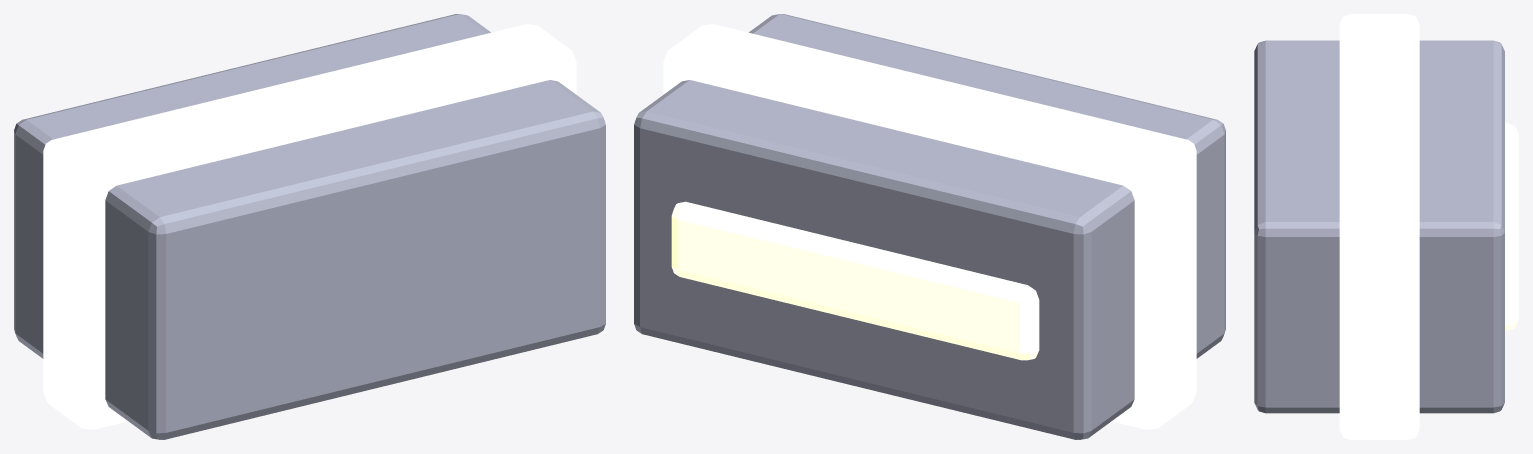
The model's file is brick_armor.glb.
3 renders of one model, left to right at view 1: azimuth 30°, elevation 25°; view 2: azimuth 150°, elevation 25°; view 3: azimuth 270°, elevation 25°, orthographic. The views are drawn at different scales.
Parts seen in each view (by area): view 1: brick_armor; view 2: brick_armor; view 3: brick_armor.
Boxes of the visible parts, left/top/right/bottom form: brick_armor: left=14, top=14, right=605, bottom=439; brick_armor: left=634, top=14, right=1225, bottom=439; brick_armor: left=1254, top=14, right=1518, bottom=439.
Size of the model in its own units: 0.98 by 0.5 by 0.5275.
